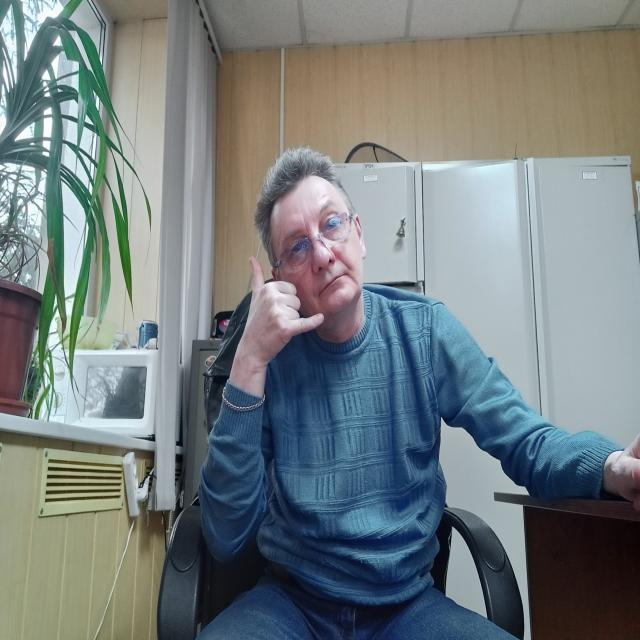call: (242, 254, 326, 356)
